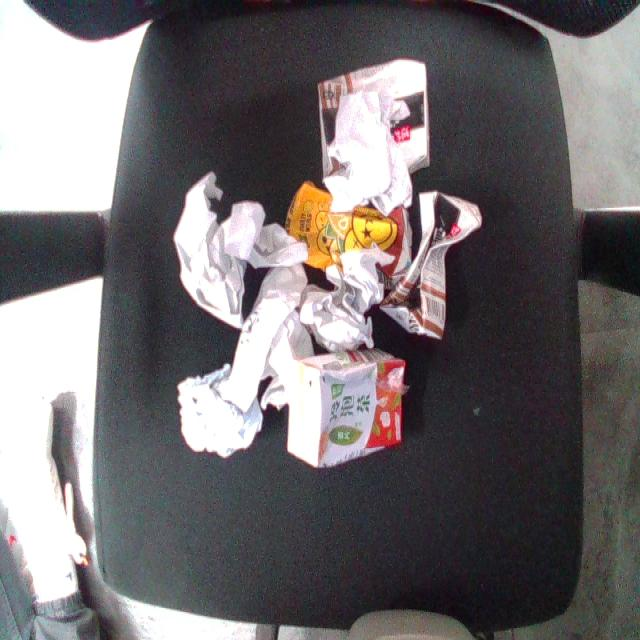juicebox: (366, 166, 508, 359), (273, 344, 421, 478)
paper: (139, 128, 321, 342), (188, 235, 370, 438), (147, 347, 288, 483), (319, 72, 419, 234), (288, 237, 411, 351)
